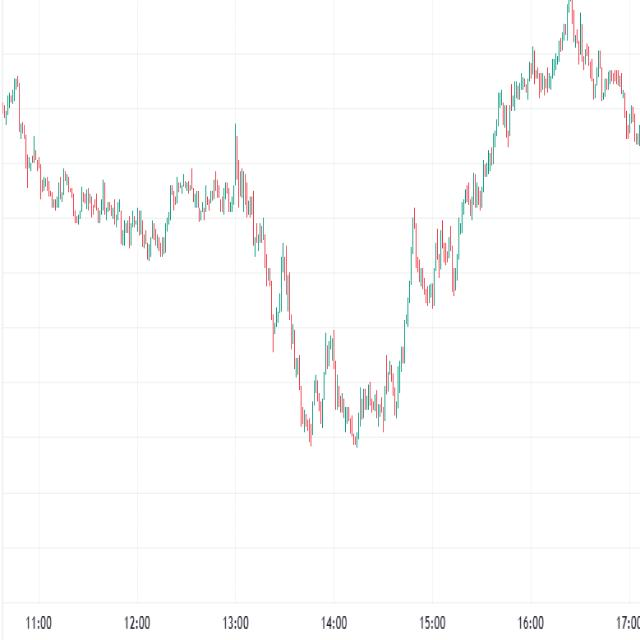Cup-and-handle: (279, 214, 444, 463)
